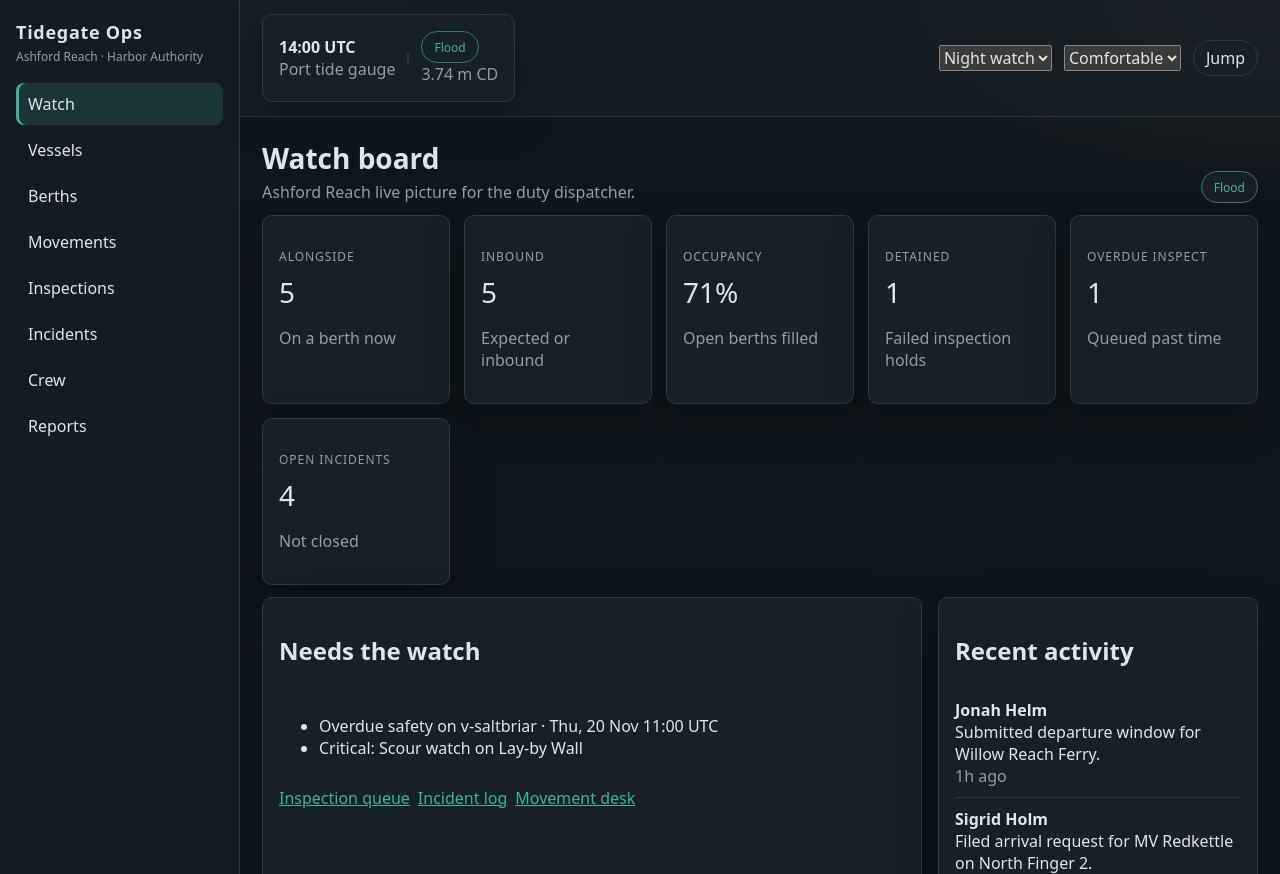
Test case: app shell › moves from the watch board to the berth board
Expected: the heading "Watch board" is shown, [262,139,440,177]
What coordinates should you click on to do the following:
click the link "Berths"
I would click on:
 (53, 196)
Its box is [28,185,77,207].
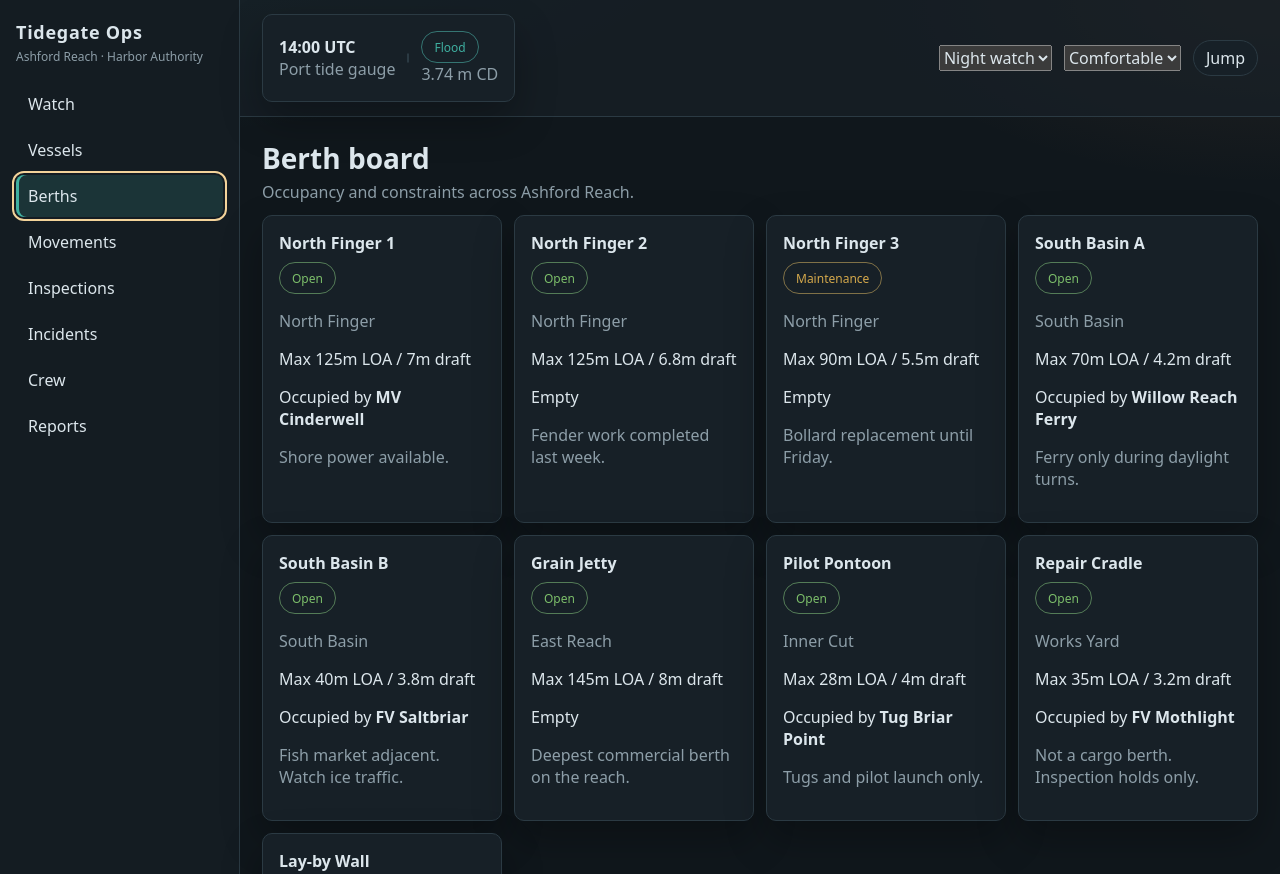
Expected: the heading "Grain Jetty" is shown, [531,552,616,574]
Expected: the heading "Berth board" is shown, [262,139,430,177]
